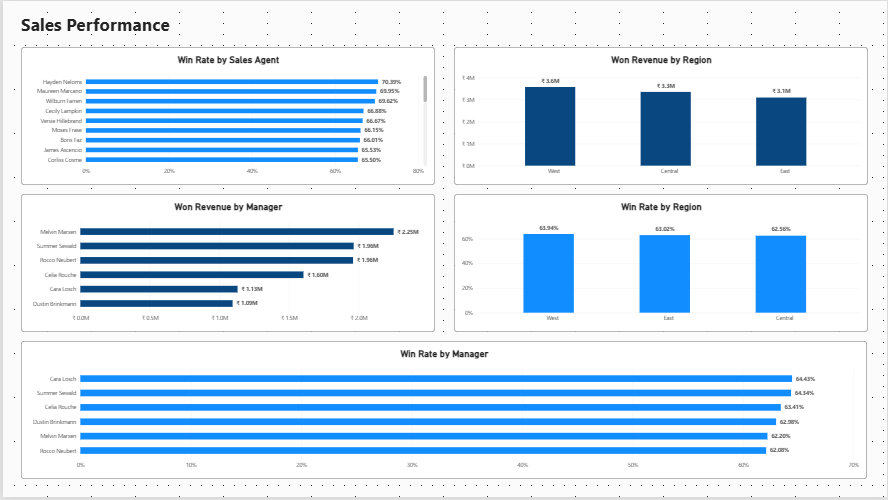

This screenshot's page, from the dashboard's own definition file:
{"tool":"powerbi","page":{"name":"Sales Performance","canvas":[1920,1080],"ordinal":1},"visuals":[{"type":"clusteredBarChart","title":"Win Rate by Sales Agent","fields":{"Category":["crm_sales sales_teams.sales_agent"],"Y":["crm_sales sales_pipeline.Agent Win Rate"]},"box":[40,100,900,300],"z":0},{"type":"clusteredColumnChart","title":"Won Revenue by Region","fields":{"Category":["crm_sales sales_teams.regional_office"],"Y":["crm_sales sales_pipeline.Won Revenue"]},"box":[980,100,900,300],"z":1},{"type":"clusteredColumnChart","title":"Win Rate by Region","fields":{"Category":["crm_sales sales_teams.regional_office"],"Y":["crm_sales sales_pipeline.Regional Win Rate"]},"box":[980,420,900,300],"z":2},{"type":"clusteredBarChart","title":"Won Revenue by Manager","fields":{"Category":["crm_sales sales_teams.manager"],"Y":["crm_sales sales_pipeline.Won Revenue"]},"box":[40,420,900,300],"z":3},{"type":"clusteredBarChart","title":"Win Rate by Manager","fields":{"Category":["crm_sales sales_teams.manager"],"Y":["crm_sales sales_pipeline.Manager Win Rate"]},"box":[40,740,1839,300],"z":4},{"type":"textbox","box":[40,25,1839,50],"z":8}]}

Visuals, with their boxes in screenshot pixels (x1, y1, x2, y2), scaled from the page's 1920x1080 canvas onto the 888x500 screenshot:
"Win Rate by Sales Agent" clusteredBarChart: locate(18, 46, 435, 185)
"Won Revenue by Region" clusteredColumnChart: locate(453, 46, 870, 185)
"Win Rate by Region" clusteredColumnChart: locate(453, 194, 870, 333)
"Won Revenue by Manager" clusteredBarChart: locate(18, 194, 435, 333)
"Win Rate by Manager" clusteredBarChart: locate(18, 343, 869, 481)
textbox: locate(18, 12, 869, 35)
